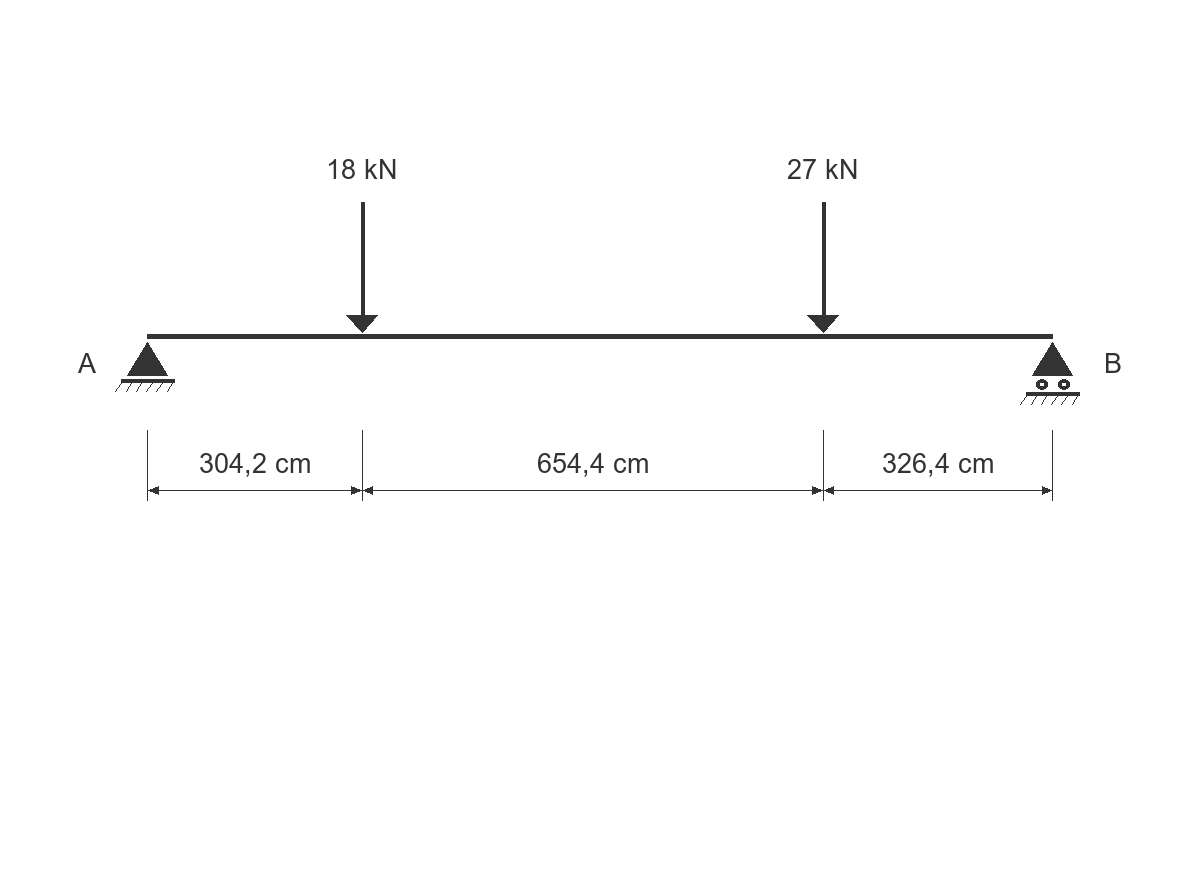pin_support: (115, 342, 175, 392)
point_load: (346, 202, 378, 333), (807, 202, 839, 333)
roller_support: (1020, 342, 1080, 405)
